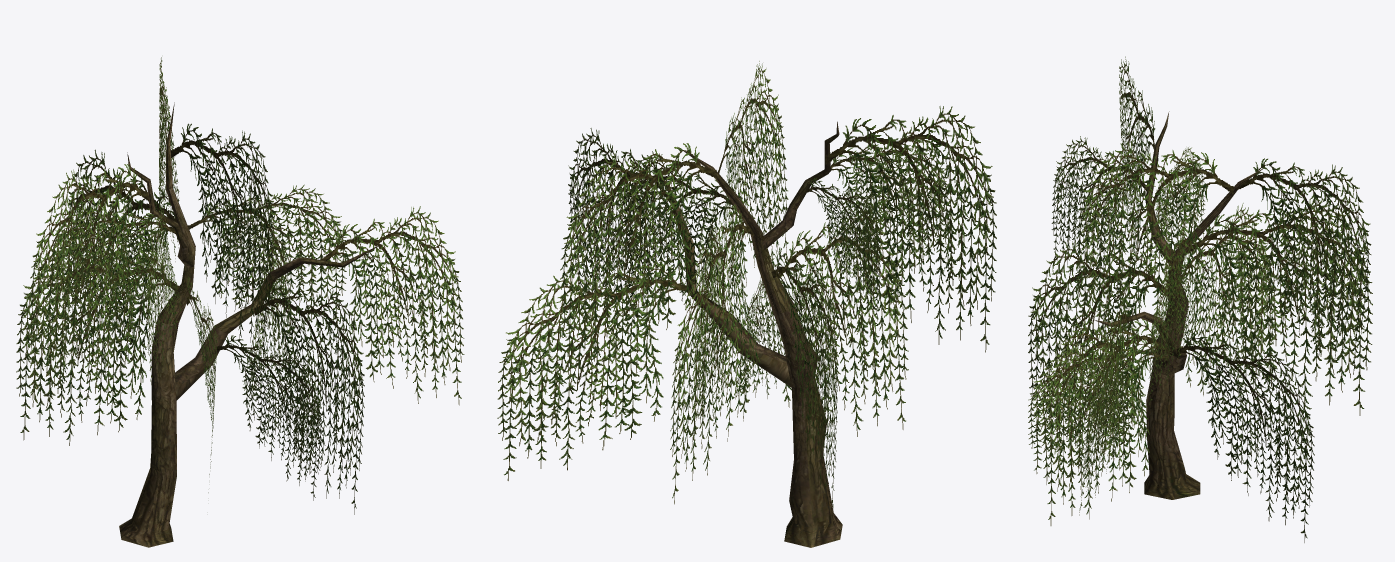
Rendered from liushu_64.FBX.
The picture shows the model from 3 angles, left to right: view 1: azimuth 30°, elevation 25°; view 2: azimuth 150°, elevation 25°; view 3: azimuth 270°, elevation 25°; orthographic projection. The views are drawn at different scales.
Parts seen in each view (by area): view 1: liushu_64; view 2: liushu_64; view 3: liushu_64.
Part boxes in pixels (box(x1,y1,x2,y2)): liushu_64: box(16, 57, 464, 547); liushu_64: box(497, 61, 996, 547); liushu_64: box(1028, 56, 1372, 542).
Size of what is drawn, in the model's own units: 700 by 689 by 540.
